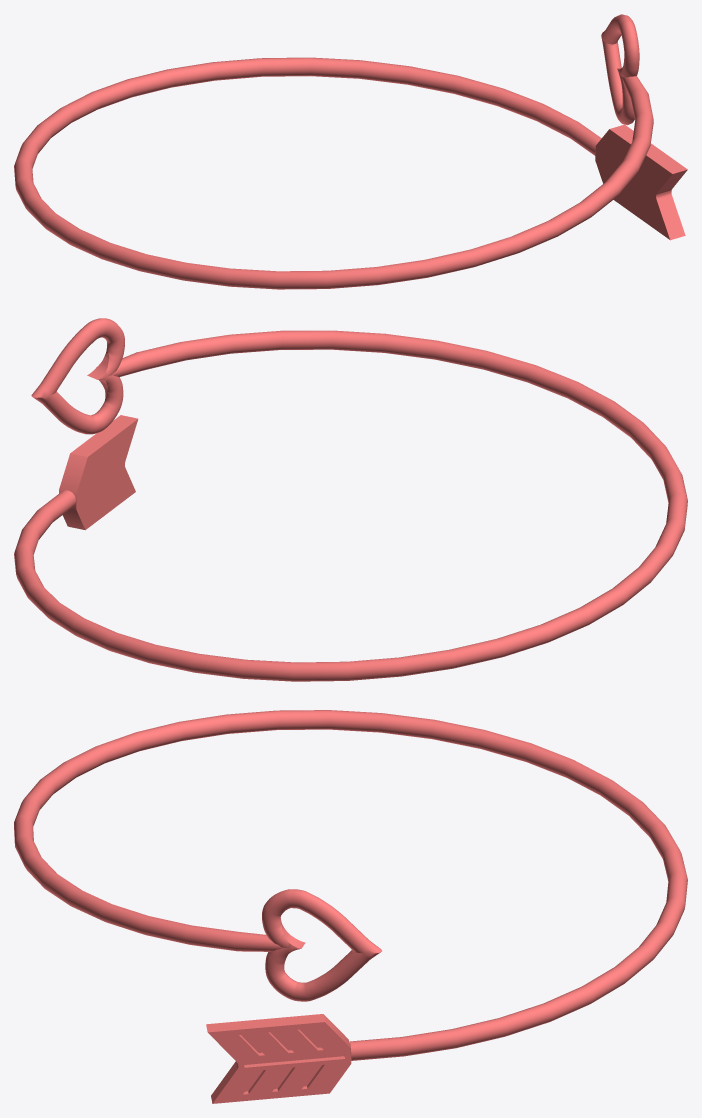
Rendered from 6-pink.fbx.
3 renders of one model, top to bottom at view 1: azimuth 30°, elevation 25°; view 2: azimuth 150°, elevation 25°; view 3: azimuth 270°, elevation 25°, orthographic. The views are drawn at different scales.
Visible parts, largest first — view 1: Helix002, Line028, Line026; view 2: Helix002, Line028, Line026; view 3: Helix002, Line028, Line026.
Part boxes in pixels (box(x1,y1,x2,y2)): Helix002: box(14, 57, 653, 289); Line028: box(595, 124, 687, 240); Line026: box(601, 14, 639, 125); Helix002: box(14, 330, 687, 681); Line028: box(59, 415, 138, 530); Line026: box(31, 318, 124, 434); Helix002: box(14, 710, 687, 1060); Line028: box(206, 1014, 351, 1103); Line026: box(262, 889, 381, 1001).
Size of the model in its own units: 21.08 by 6.87 by 20.57.
